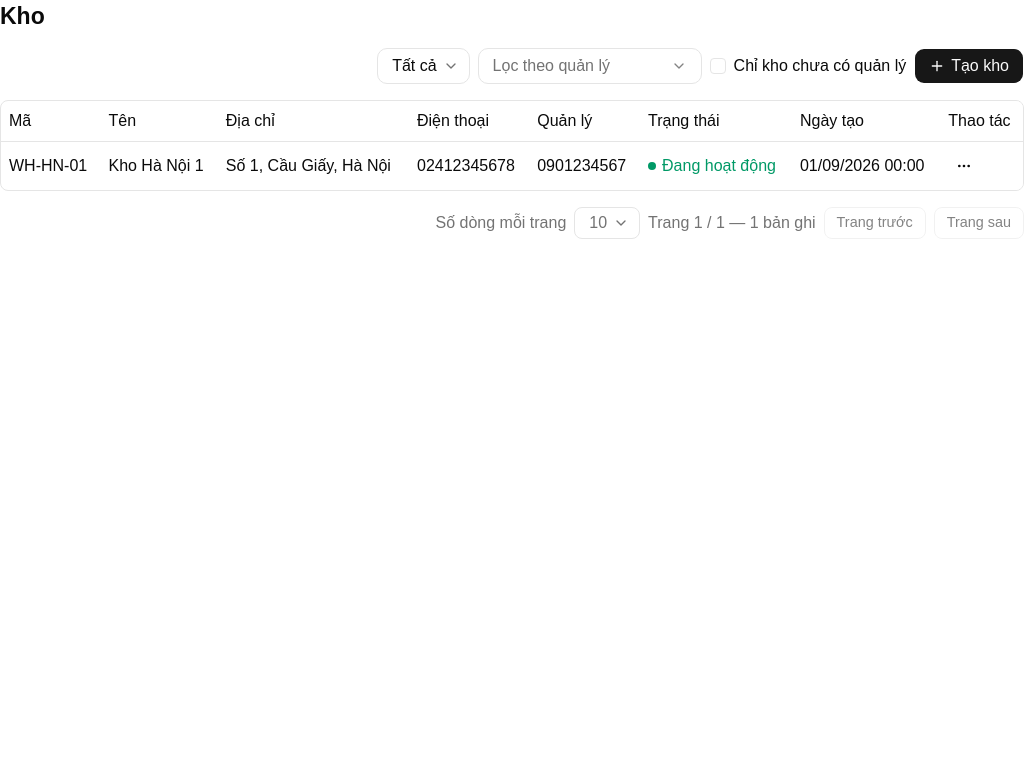
WarehousesPage — tạo / sửa › chọn Sửa trong menu mở sheet đã đổ sẵn dữ liệu dòng đó
Expected: the link "Kho Hà Nội 1" is shown, [108,154,204,178]
Click the button named "Thao tác với Kho Hà Nội 1": click(964, 166) [948,150,980,182]
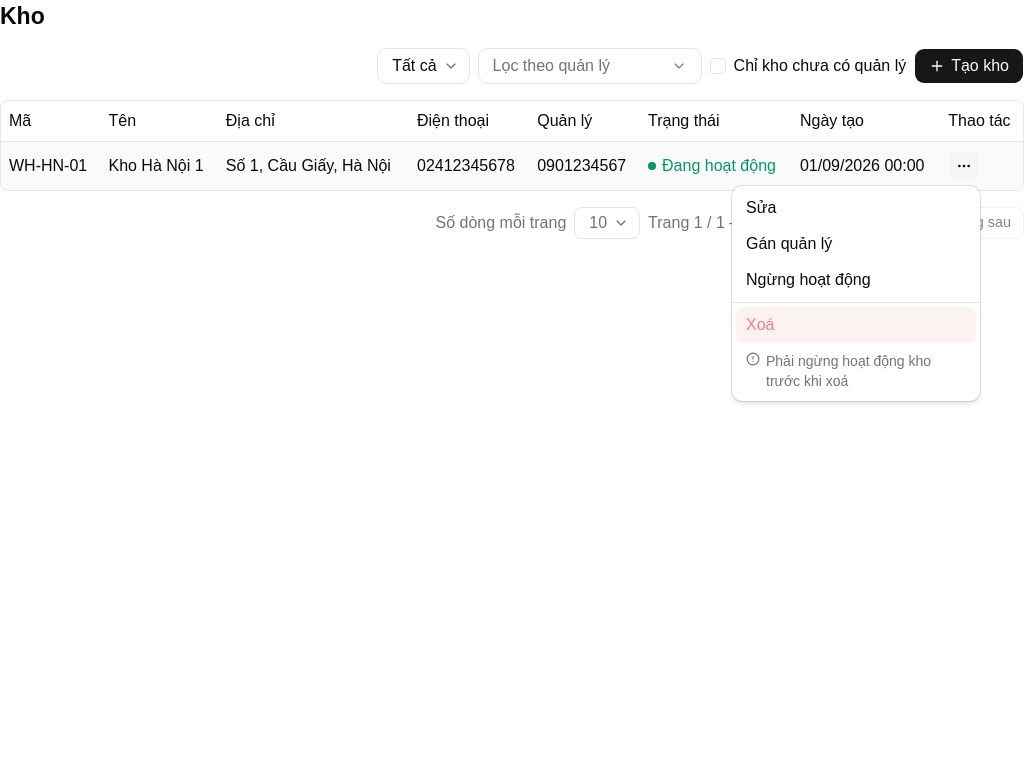
Click the menu item "Sửa": click(761, 208) [746,199,776,216]
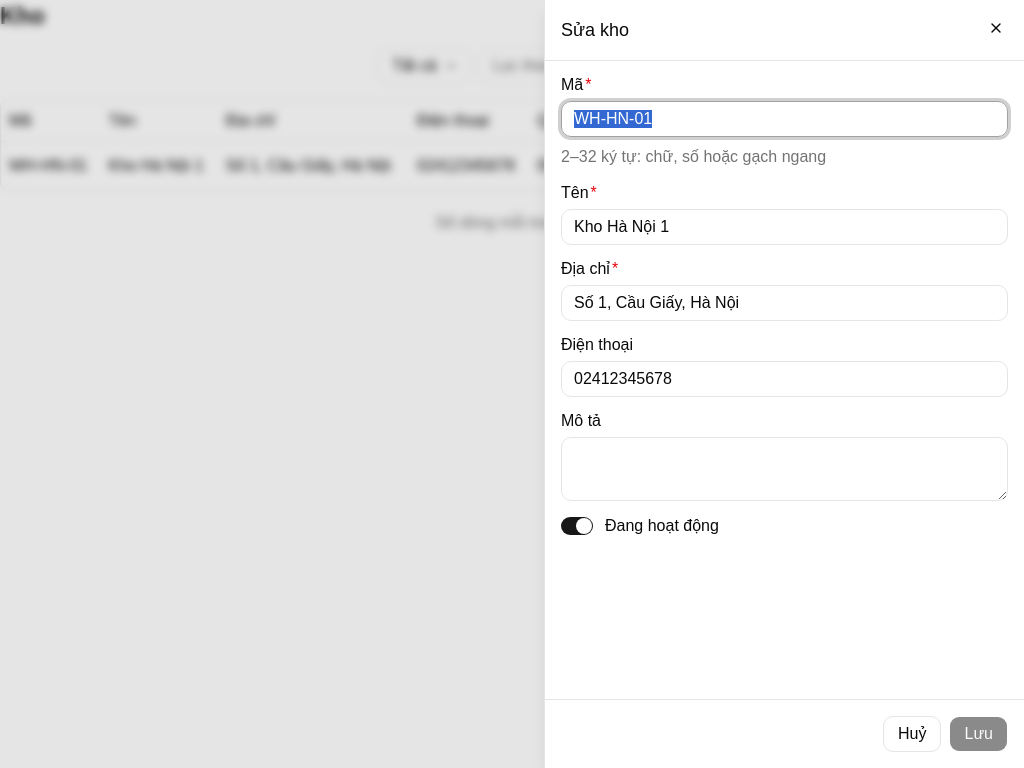
Now the heading "Sửa kho" is shown, box [561,20,629,40]
Now the field labelled "Mã *" holds "WH-HN-01", box [561,101,1008,137]
